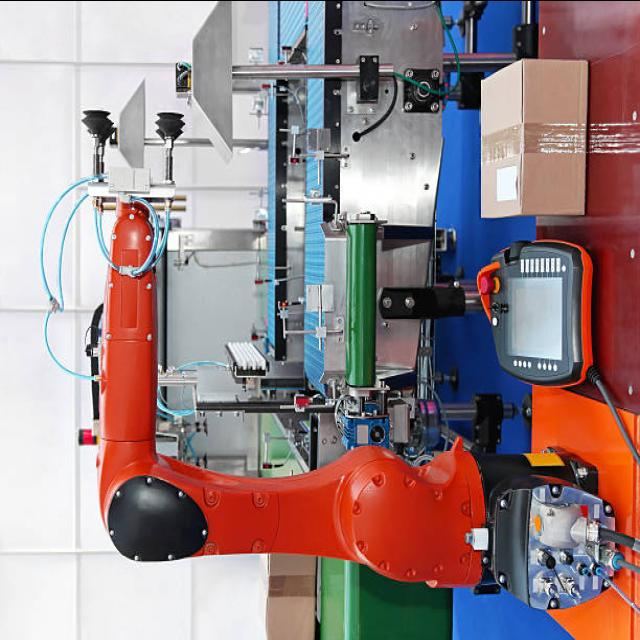Robotic-arm: (80, 185, 500, 607)
